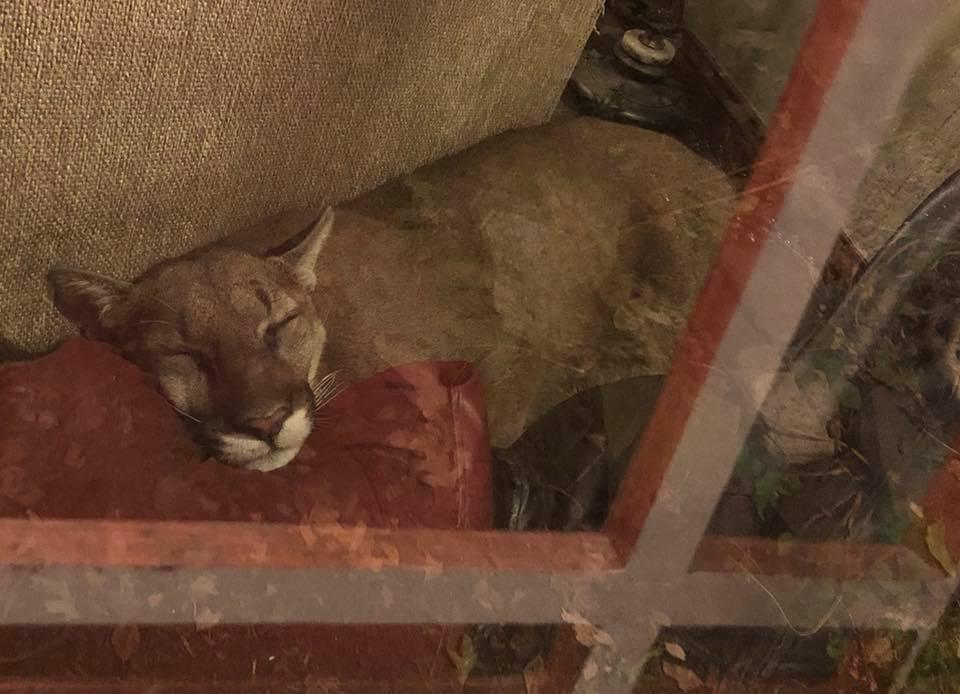OncaParda: (36, 111, 790, 496)
